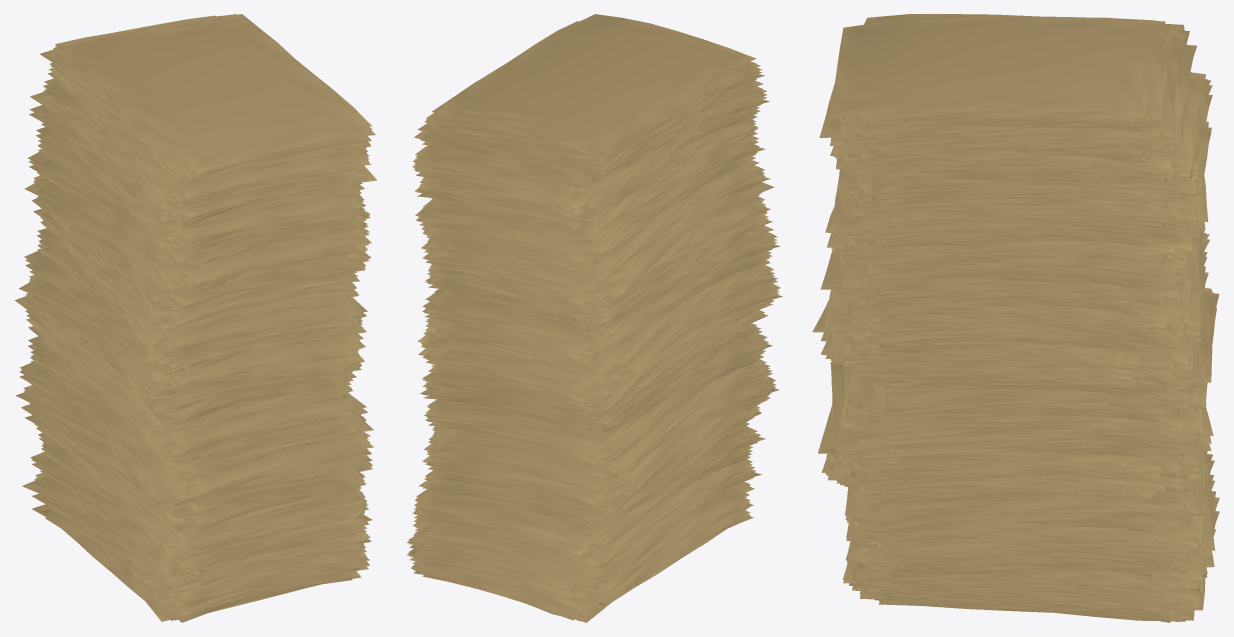
The model's file is paper.glb.
The picture shows the model from 3 angles, left to right: view 1: azimuth 30°, elevation 25°; view 2: azimuth 150°, elevation 25°; view 3: azimuth 270°, elevation 25°; orthographic projection. The views are drawn at different scales.
Parts seen in each view (by area): view 1: Object_3, Object_4; view 2: Object_3, Object_4; view 3: Object_3, Object_4.
Part boxes in pixels (x1,y1,x2,y2): Object_3: [19, 14, 377, 620]; Object_4: [15, 221, 372, 622]; Object_3: [412, 14, 782, 615]; Object_4: [407, 225, 780, 622]; Object_3: [812, 14, 1212, 621]; Object_4: [818, 229, 1219, 622].
Bounding box in the file's own units: 30.09 × 55.66 × 39.75.
Materials: 1 (1 with a texture image).
